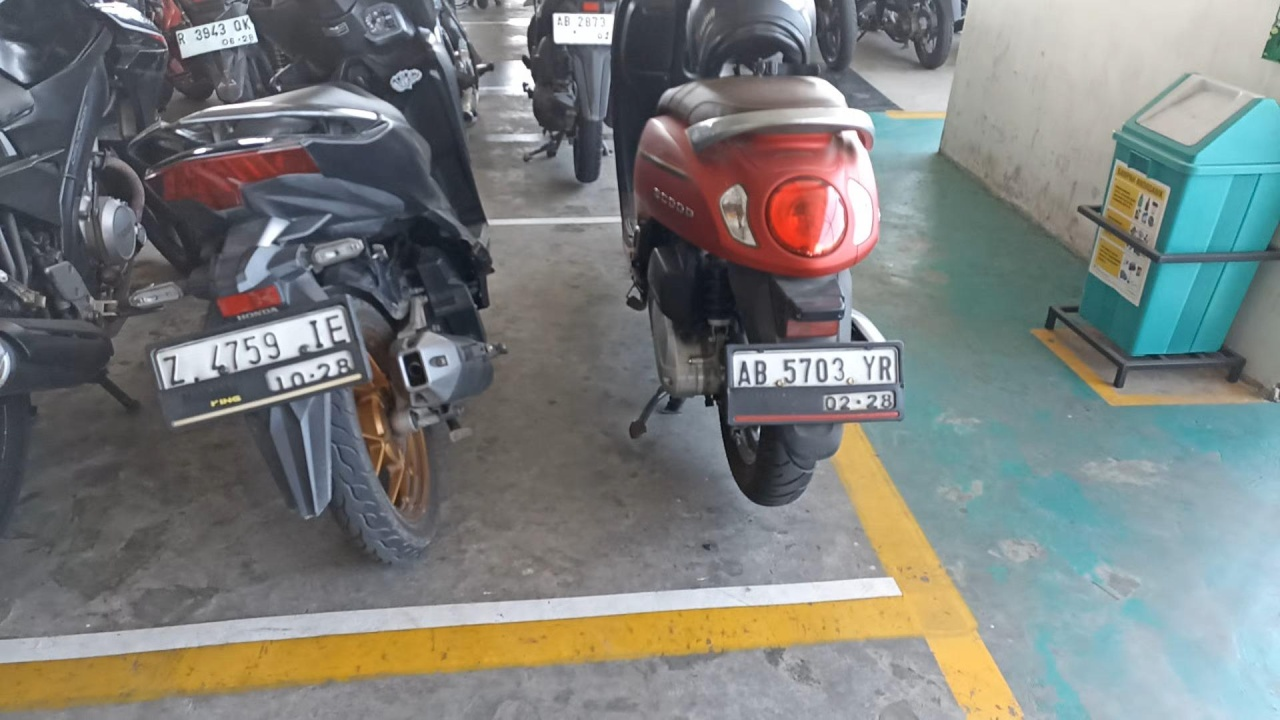plate: (149, 301, 364, 429), (729, 343, 902, 424), (176, 14, 259, 59)
